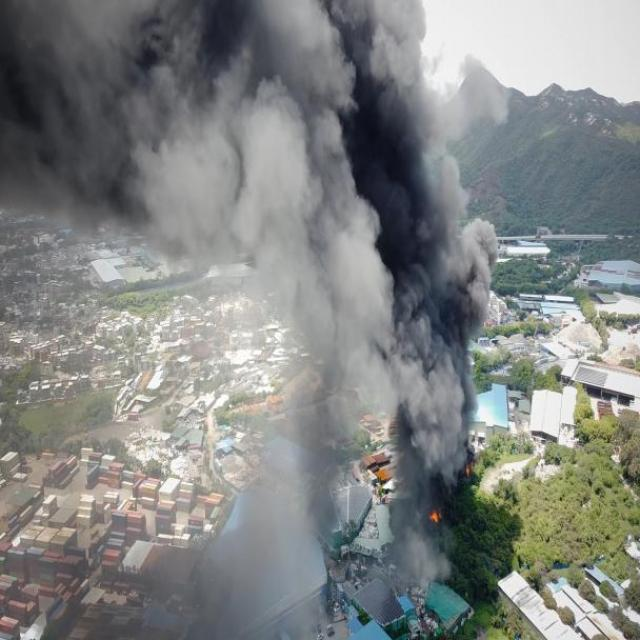Smoke: (0, 0, 462, 212), (243, 215, 490, 561)
